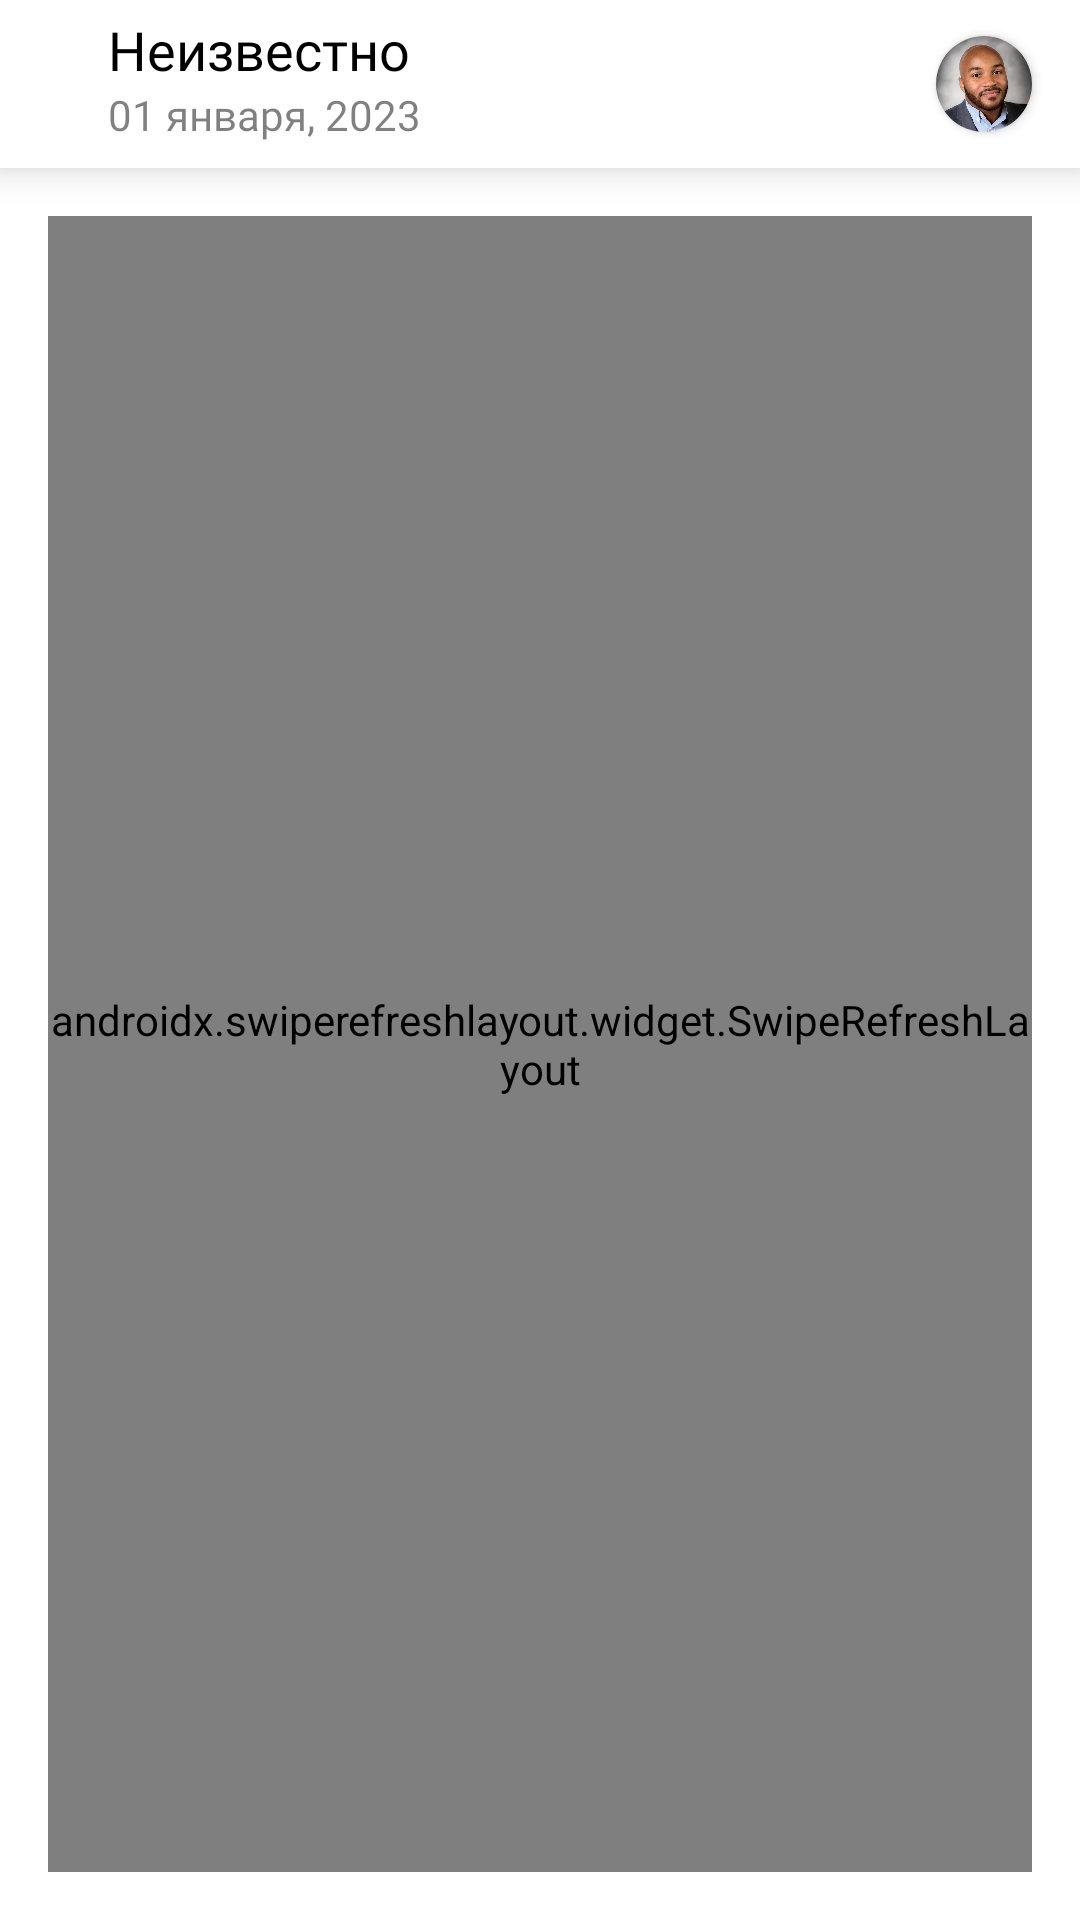

Where to tap for icons on this 1080 × 1920 app screen, as point (x, y):
profile photo: point (984, 84)
